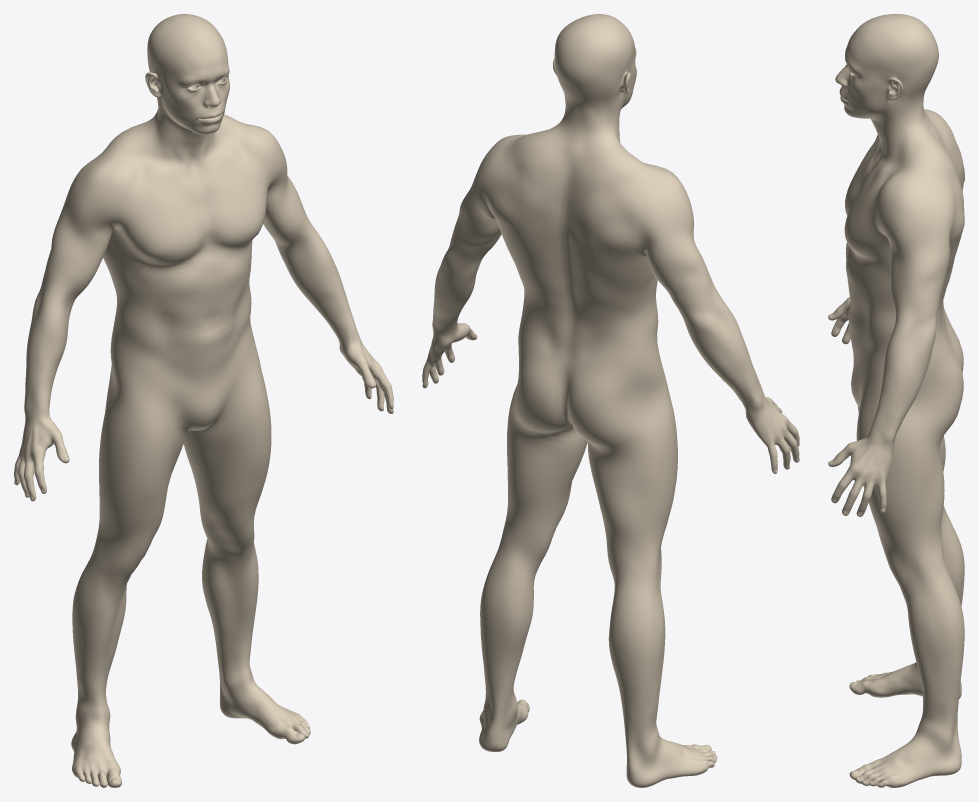
File: body-male.glb
3 views of the same model, side by side, from view 1: azimuth 30°, elevation 25°; view 2: azimuth 150°, elevation 25°; view 3: azimuth 270°, elevation 25° (orthographic).
Visible parts, largest first — view 1: Mannequin male; view 2: Mannequin male; view 3: Mannequin male.
Boxes of the visible parts, x1,y1,x2,y2 form: Mannequin male: [14, 14, 393, 787]; Mannequin male: [422, 14, 799, 787]; Mannequin male: [828, 14, 964, 787].
Size of the model in its own units: 0.9296 by 1.78 by 0.3066.
